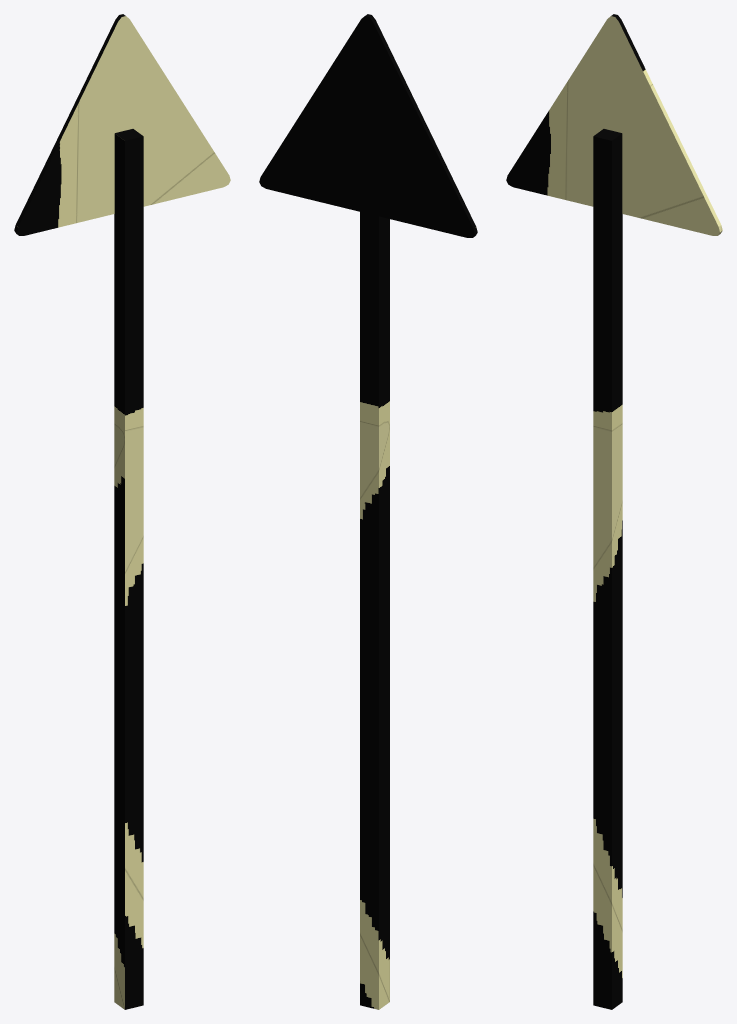
The model's file is PlacaTriangular.fbx.
The picture shows the model from 3 angles, left to right: view 1: azimuth 30°, elevation 25°; view 2: azimuth 150°, elevation 25°; view 3: azimuth 330°, elevation 25°; orthographic projection.
Visible parts, largest first — view 1: PlacaTriangular; view 2: PlacaTriangular; view 3: PlacaTriangular.
Boxes of the visible parts, x1,y1,x2,y2 form: PlacaTriangular: (14, 14, 230, 1009); PlacaTriangular: (259, 14, 477, 1009); PlacaTriangular: (506, 14, 722, 1009).
Bounding box in the file's own units: 187 × 823 × 20.02.
